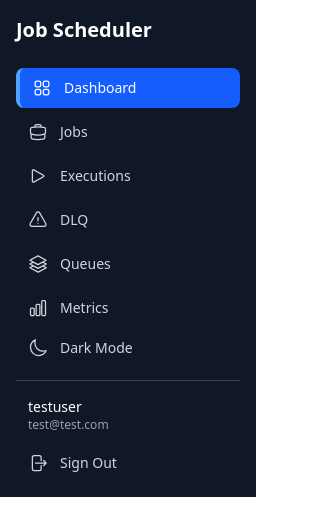
Sidebar › toggles theme on click
Click the button "Dark Mode" at (128, 348), box [16, 328, 240, 368]
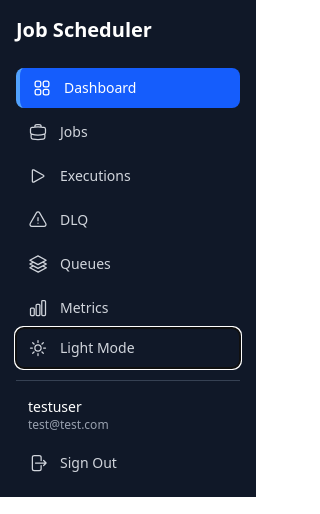
Now the button "Light Mode" is shown, box [16, 328, 240, 368]
